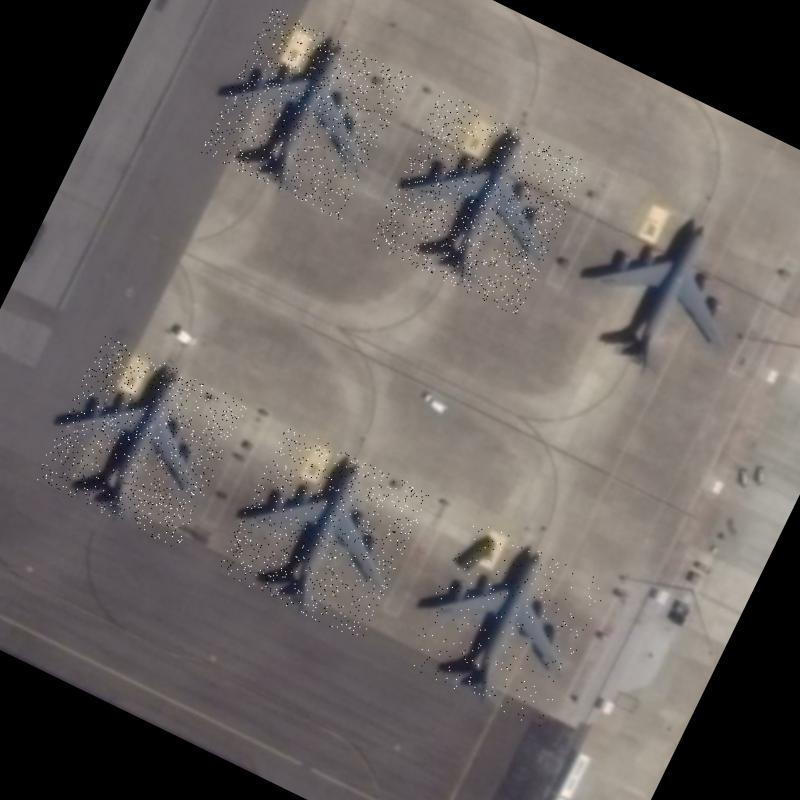A14: (366, 91, 592, 317), (214, 423, 432, 642), (34, 332, 248, 550), (200, 6, 412, 220), (564, 187, 773, 402), (400, 517, 609, 730)
